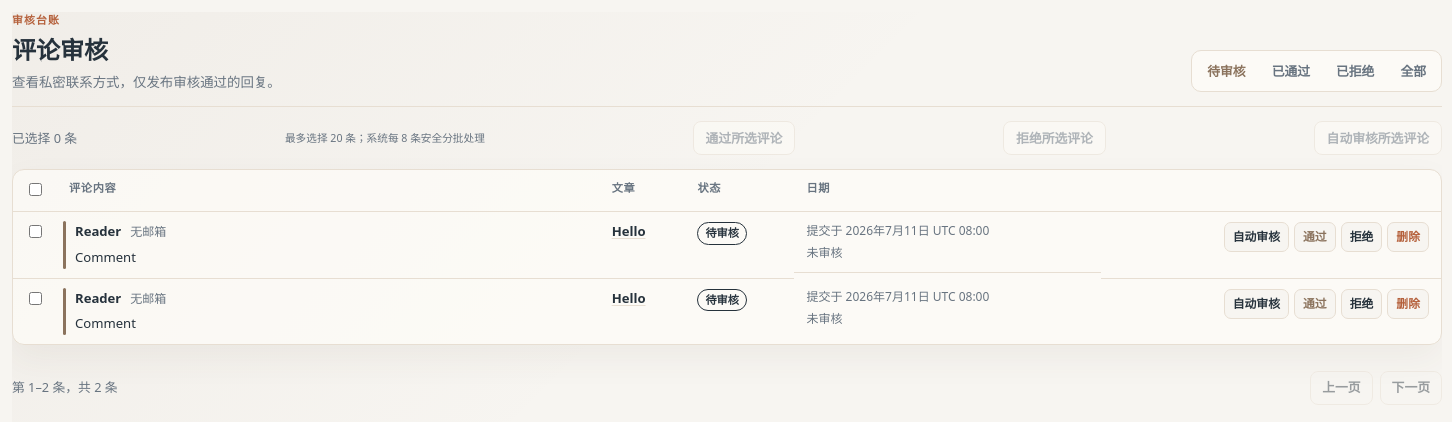
Test: CommentModerationView › keeps failed manual moderation items selected for retry
What coordinates should you click on to do the following:
click the checkbox with test id "comment-select-page"
I would click on:
 (36, 190)
Its box is [29,184,42,196].
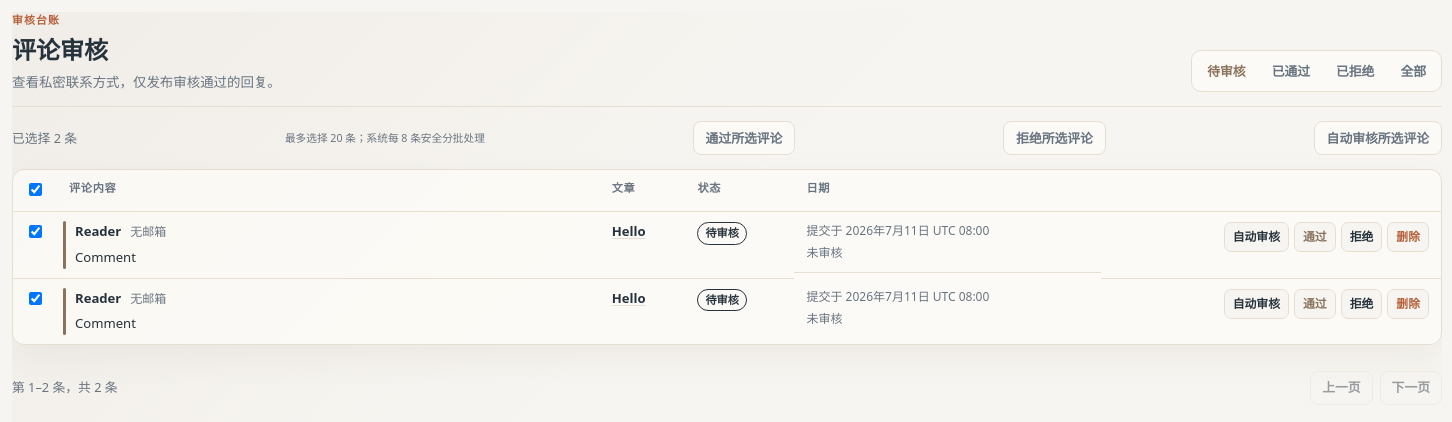
What coordinates should you click on to do the following:
click the button with test id "comment-reject-selected"
I would click on:
 (1054, 138)
Its box is [1003,122,1106,156].
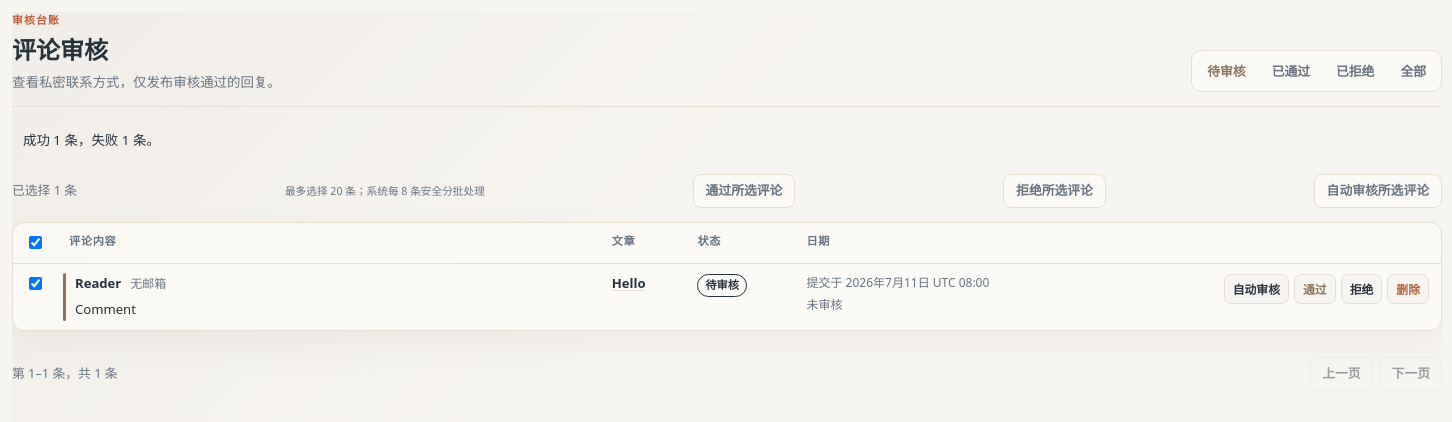
Check: the text "已选择 1 条" is shown, box [12,181,77,200]
Check: the message with test id "comment-action-notice" shows "成功 1 条，失败 1 条", box [23,132,160,150]
